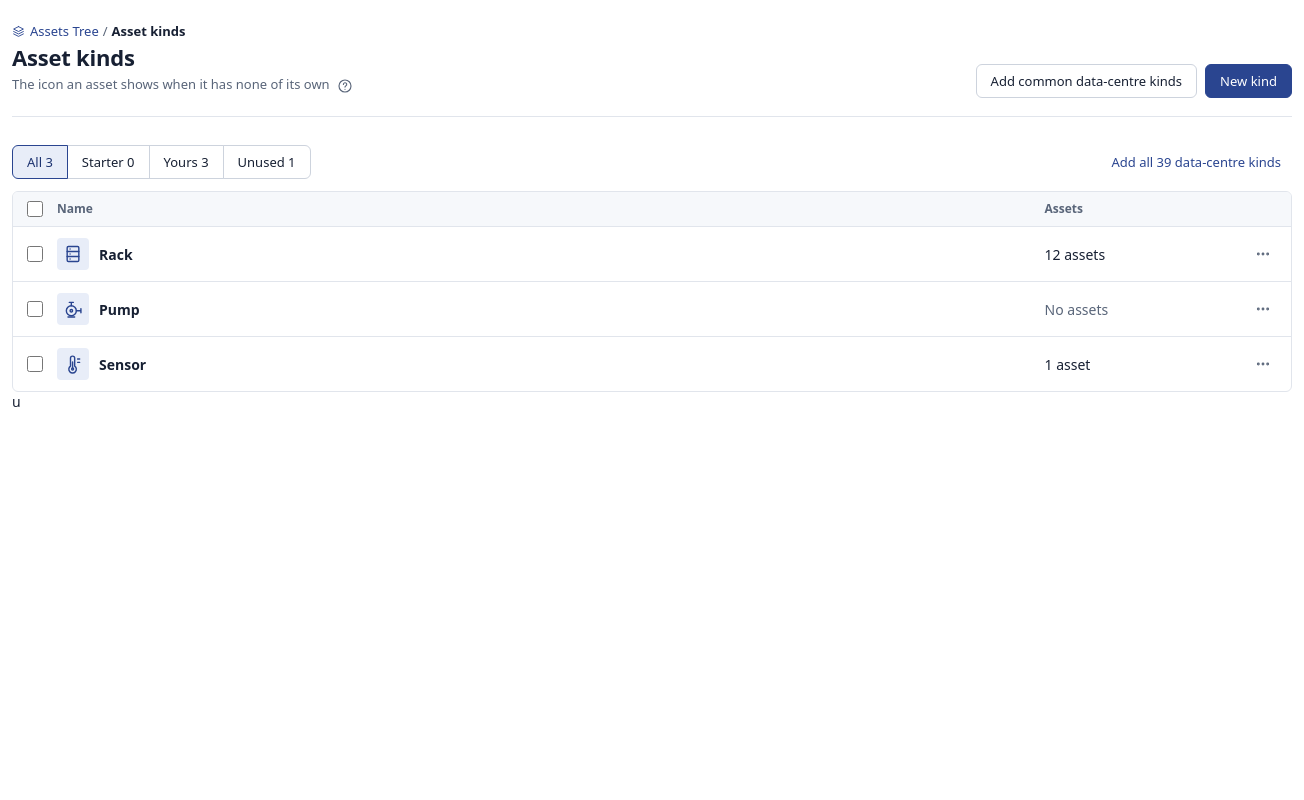
Scenario: the data-centre starter pack › posts nothing but the click, with NO query (the server's default is the common set), says how many kinds it added, and the list shows them
Click the button "Add common data-centre kinds".
click(1086, 81)  # box [976, 64, 1197, 98]
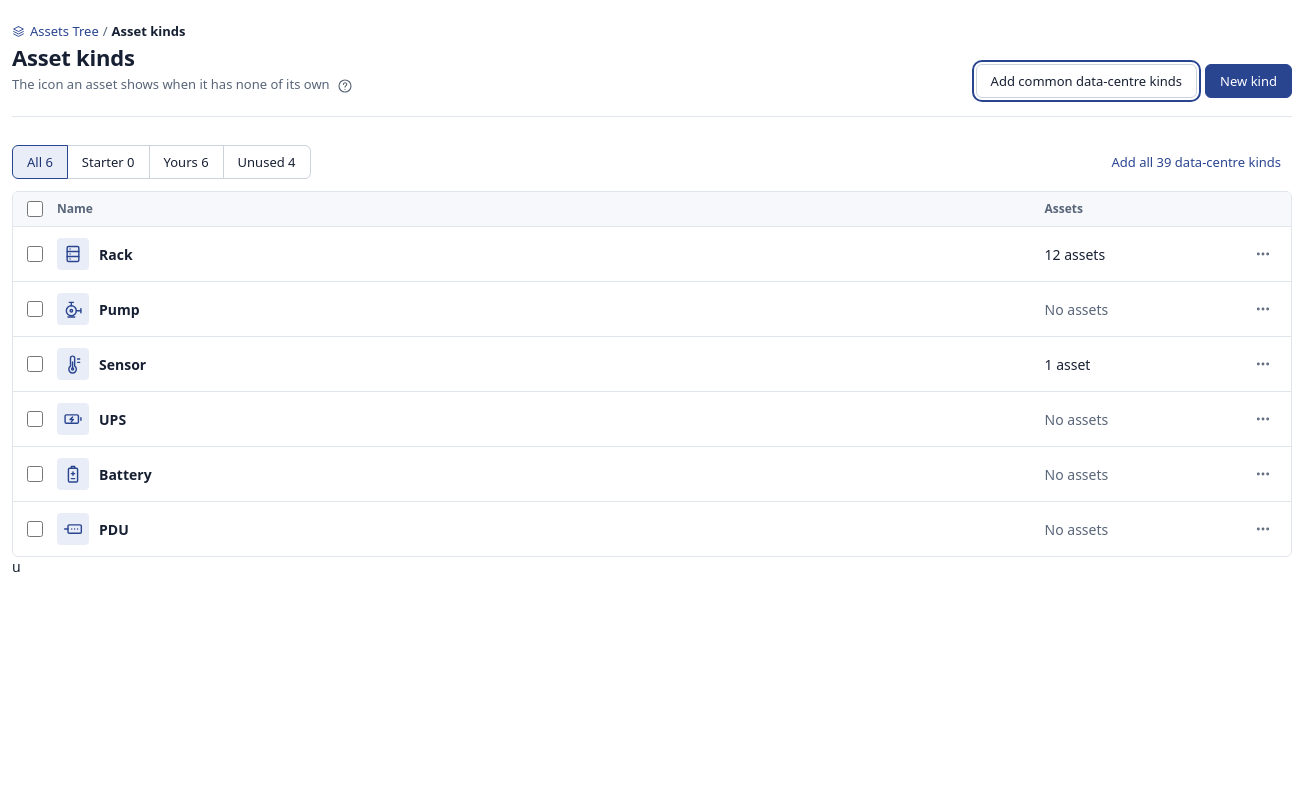
Check: the text "Battery" is shown, box [99, 465, 152, 484]
